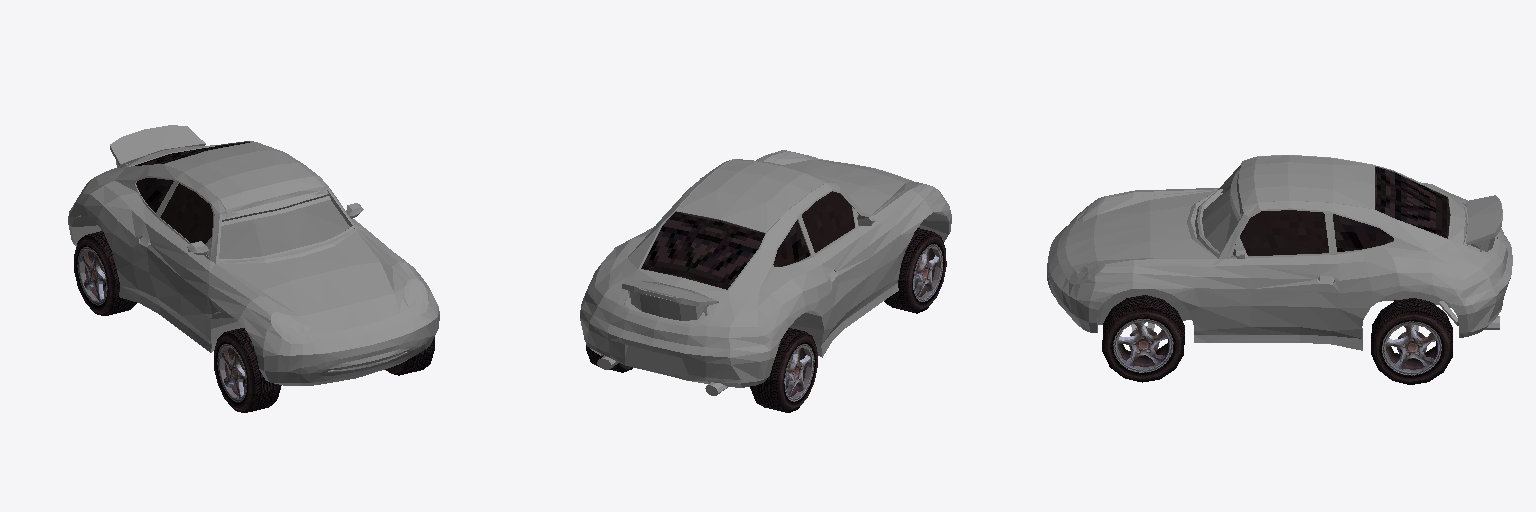
3 views of the same model, side by side, from view 1: azimuth 30°, elevation 25°; view 2: azimuth 150°, elevation 25°; view 3: azimuth 270°, elevation 25° (orthographic).
Visible parts, largest first — view 1: Body, Tires, Eye2, Window; view 2: Body, Window, Tires; view 3: Body, Tires, Window, Eye2.
Part boxes in pixels (bbox=[...]): Body: bbox=[68, 125, 439, 385]; Tires: bbox=[74, 231, 434, 412]; Eye2: bbox=[219, 200, 349, 258]; Window: bbox=[135, 142, 249, 243]; Body: bbox=[580, 150, 951, 395]; Window: bbox=[641, 191, 854, 289]; Tires: bbox=[586, 228, 946, 412]; Body: bbox=[1047, 155, 1512, 350]; Tires: bbox=[1102, 295, 1452, 384]; Window: bbox=[1240, 167, 1449, 255]; Eye2: bbox=[1202, 185, 1237, 251].
Size of the model in its own units: 6.73 by 5.38 by 13.71.
4 materials, 1 textured.